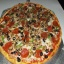pepperoni: (3, 15, 15, 27), (3, 41, 14, 52), (21, 48, 31, 59), (33, 48, 44, 58), (40, 31, 50, 40), (11, 26, 20, 36), (23, 30, 29, 44)
pizza: (1, 3, 59, 63)
